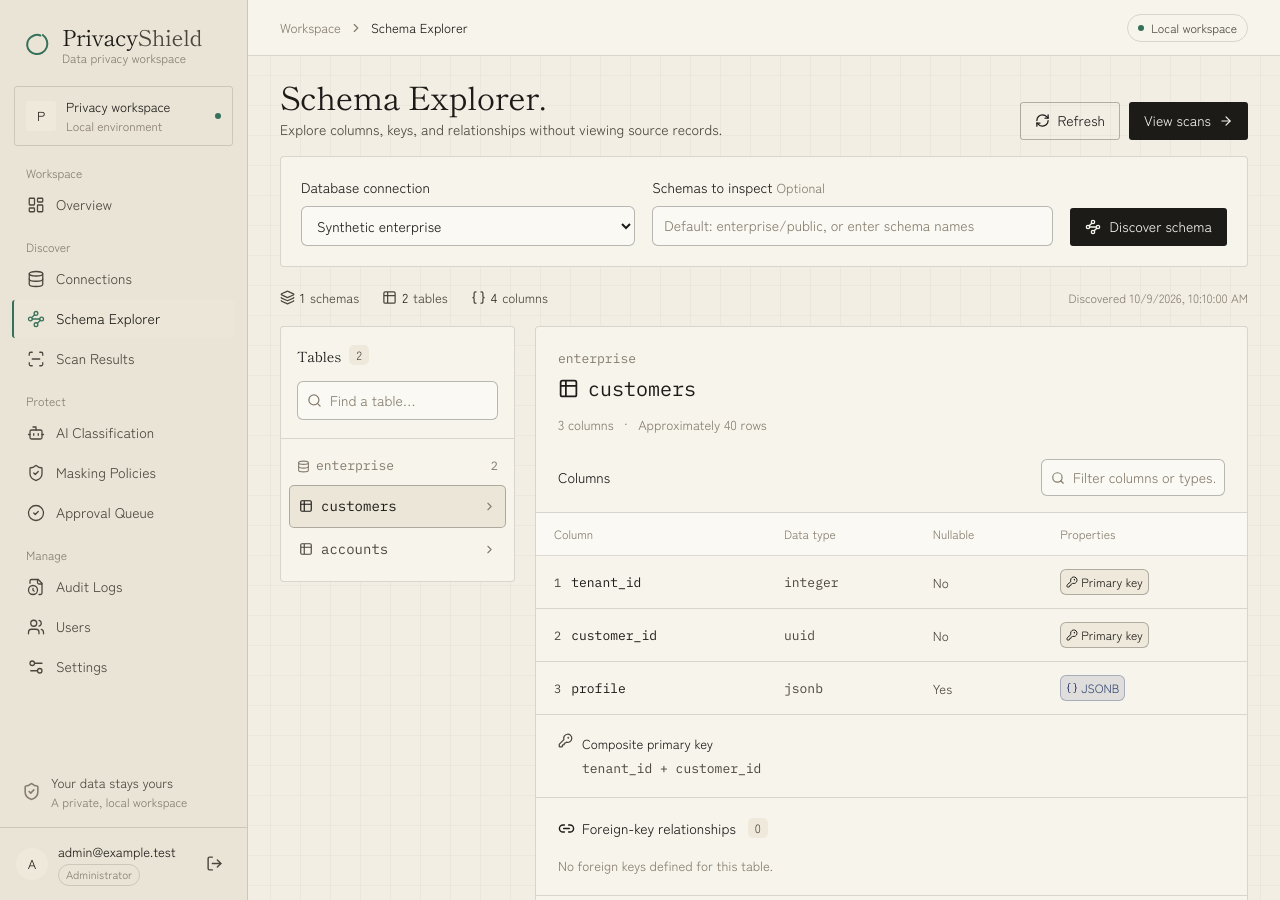
Test: schema explorer › shows composite primary and foreign keys as grouped relationships and filters columns
The image size is (1280, 900).
Expected: the text "Composite primary key" is shown, left=582, top=734, right=713, bottom=753
Expected: the text "tenant_id + customer_id" is shown, left=582, top=759, right=761, bottom=779
Step 1. Clear the field named "Find columns" → (1144, 478), box left=1073, top=467, right=1215, bottom=488
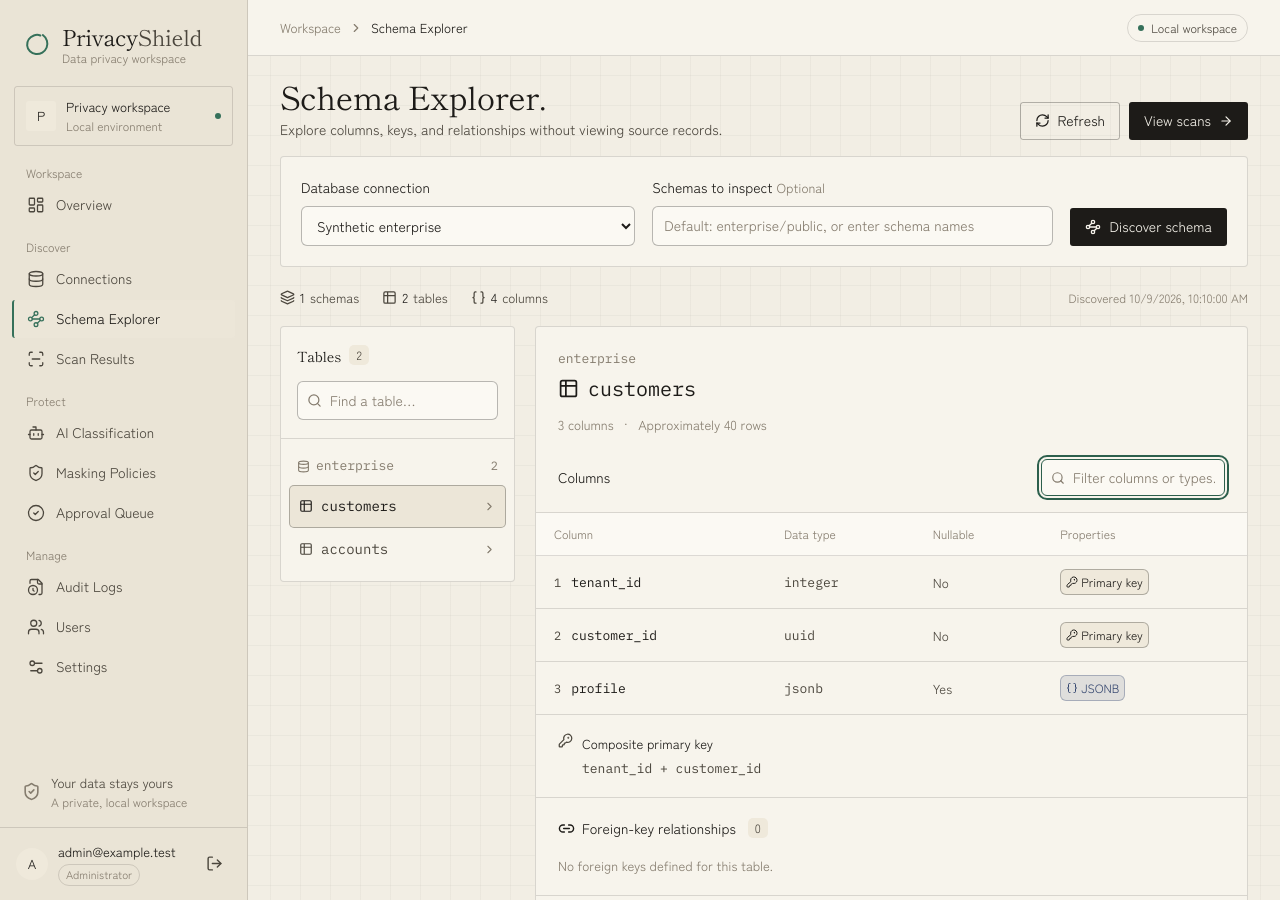
Step 2. Type keys "profile"
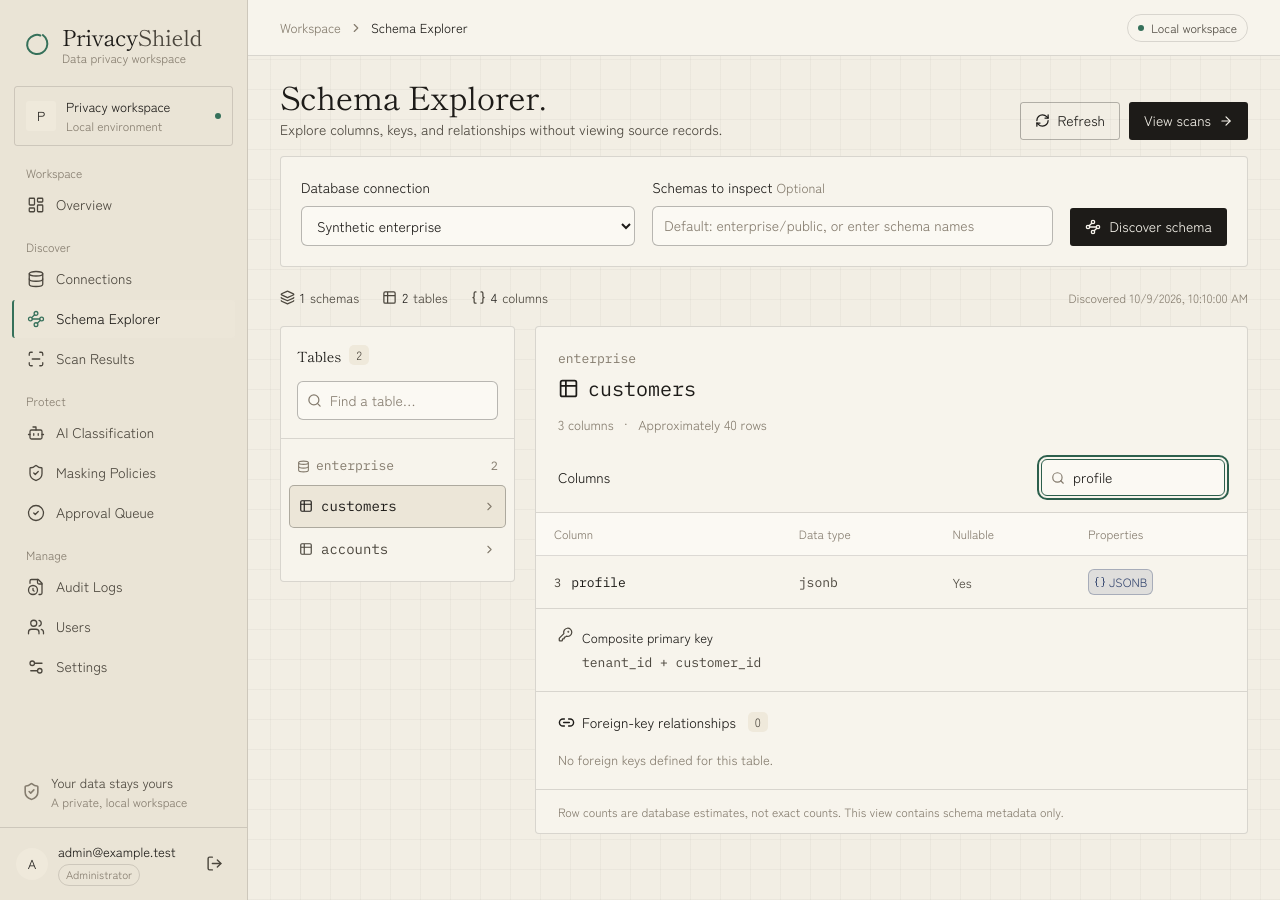
Result: the number of rows is 2 at left=536, top=513, right=1247, bottom=556; left=536, top=556, right=1247, bottom=609
Step 3. Click the button "accounts" → (398, 549), box left=289, top=528, right=506, bottom=571
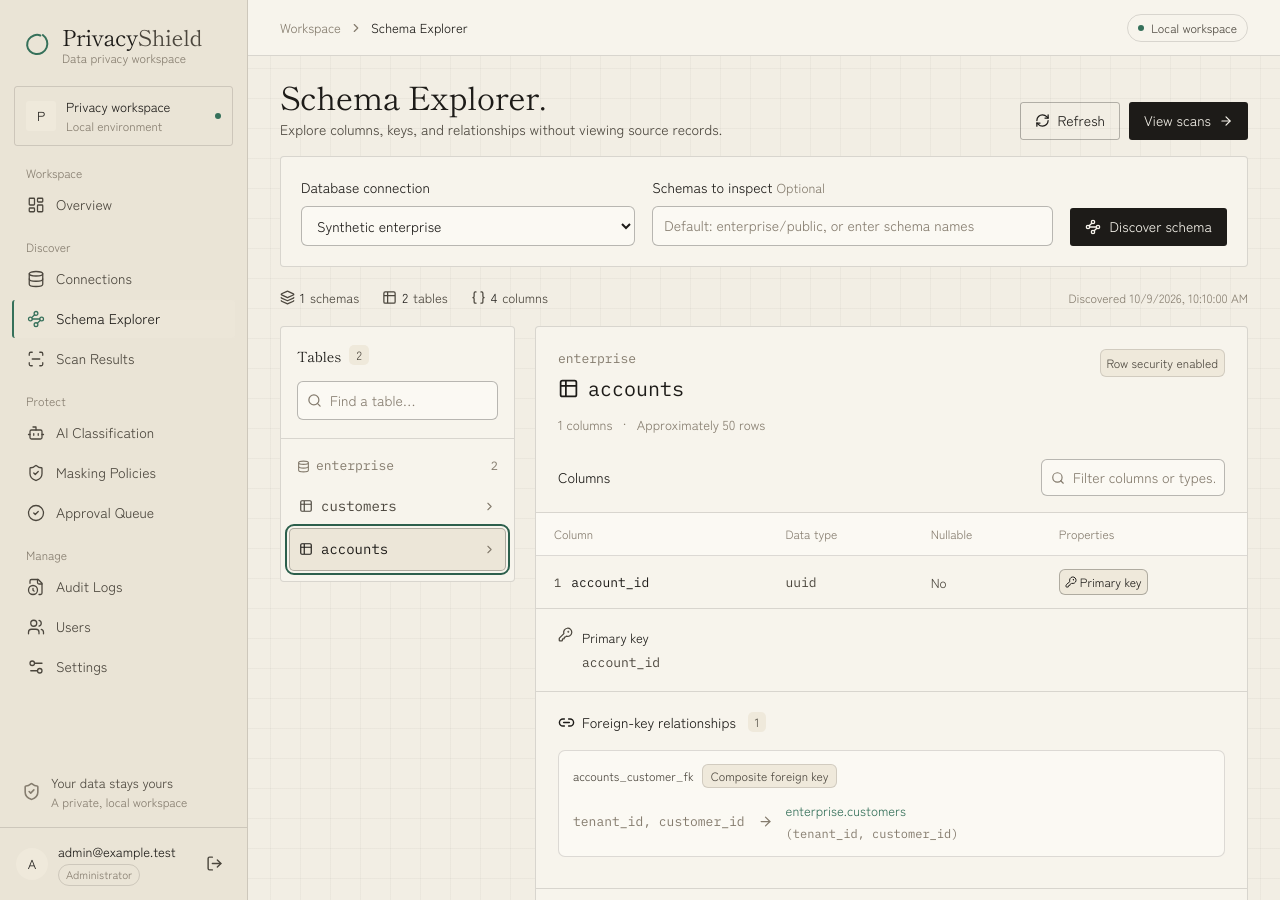
Result: the text "Composite foreign key" is shown at left=702, top=764, right=837, bottom=788
Result: the text "accounts_customer_fk" is shown at left=573, top=767, right=694, bottom=785
Result: the text "Row security enabled" is shown at left=1100, top=349, right=1225, bottom=377
Step 4. Click the button "enterprise.customers" → (846, 811), box left=786, top=801, right=906, bottom=820
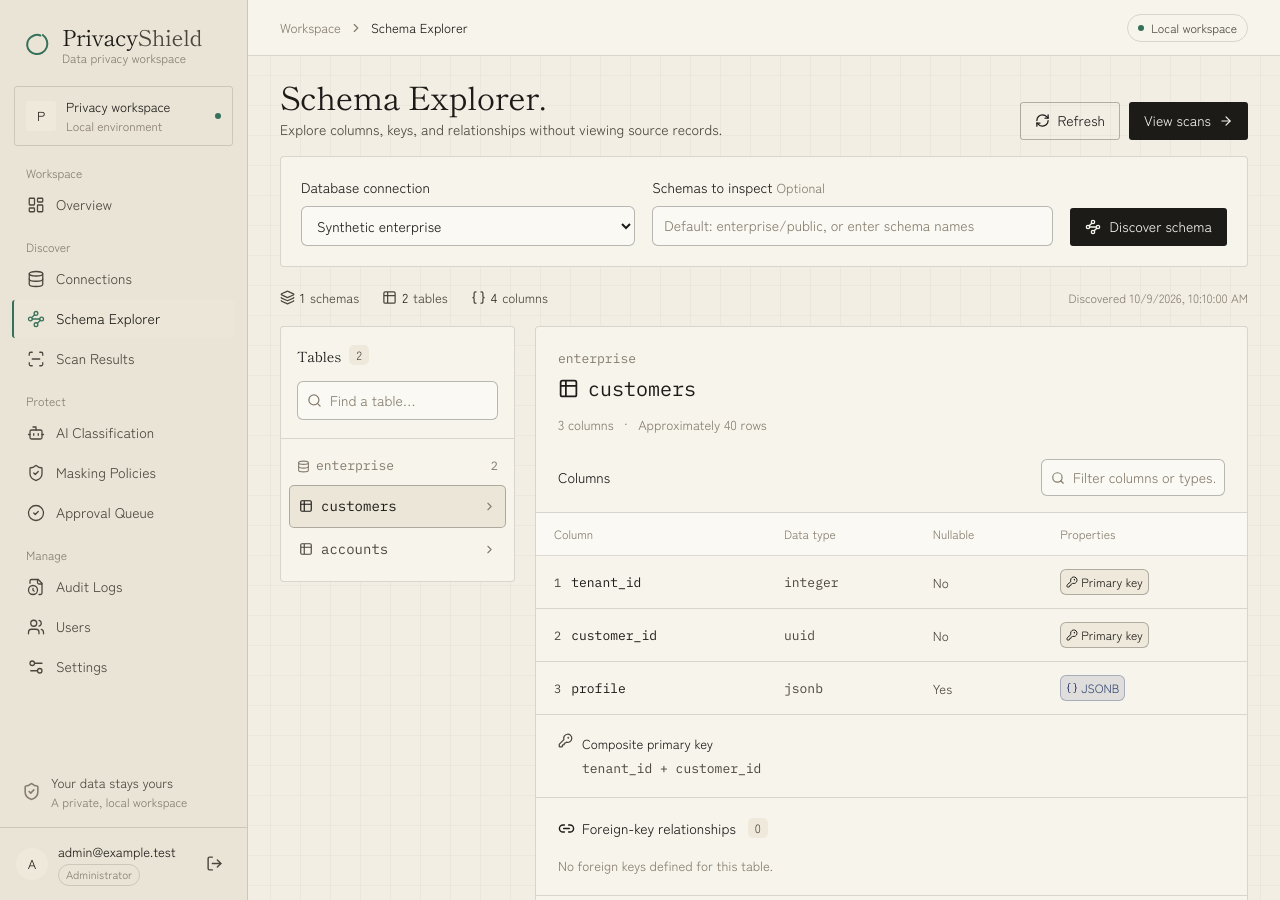
Result: the text "Composite primary key" is shown at left=582, top=734, right=713, bottom=753
